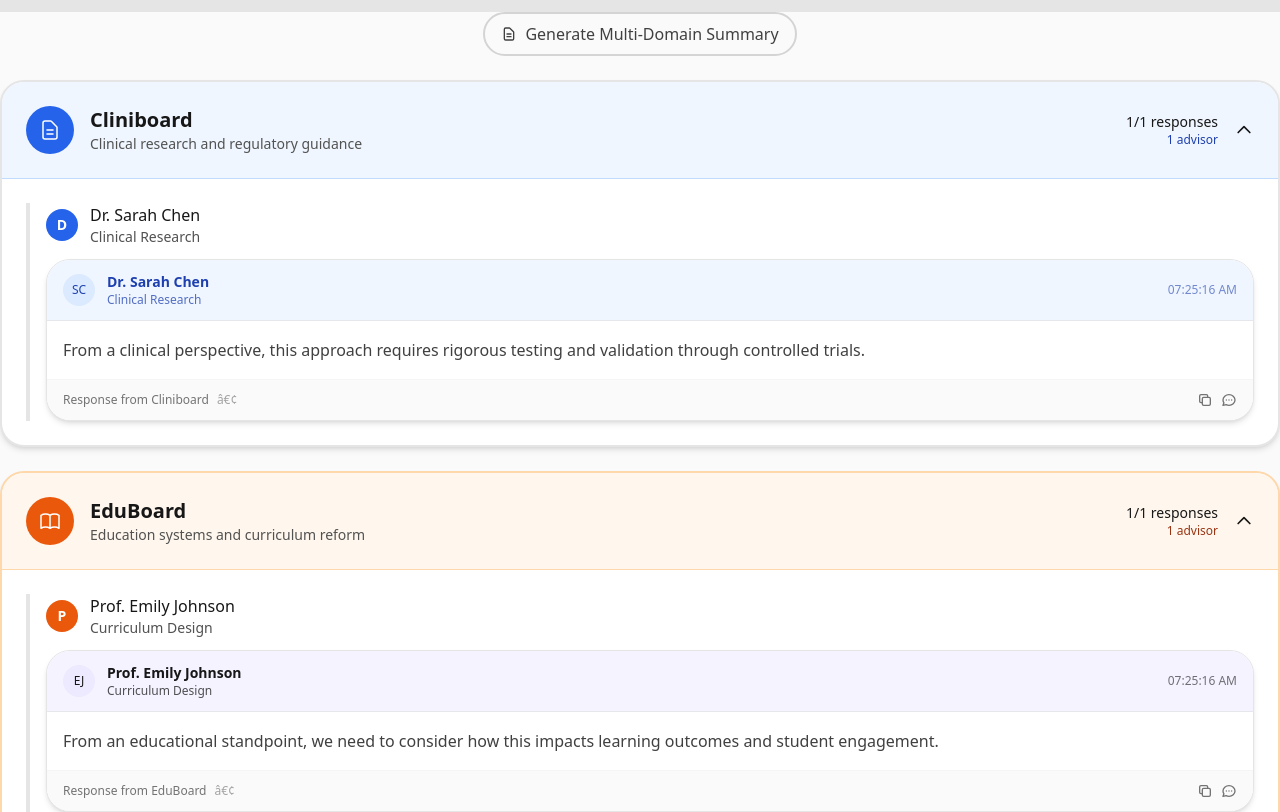
it: MultiDomainResponsePanel › hides summary when hide button is clicked
// Show summary first
What coordinates should you click on to do the following:
click the button "Generate Multi-Domain Summary"
I would click on:
 (640, 34)
Its box is [483,12,797,56].
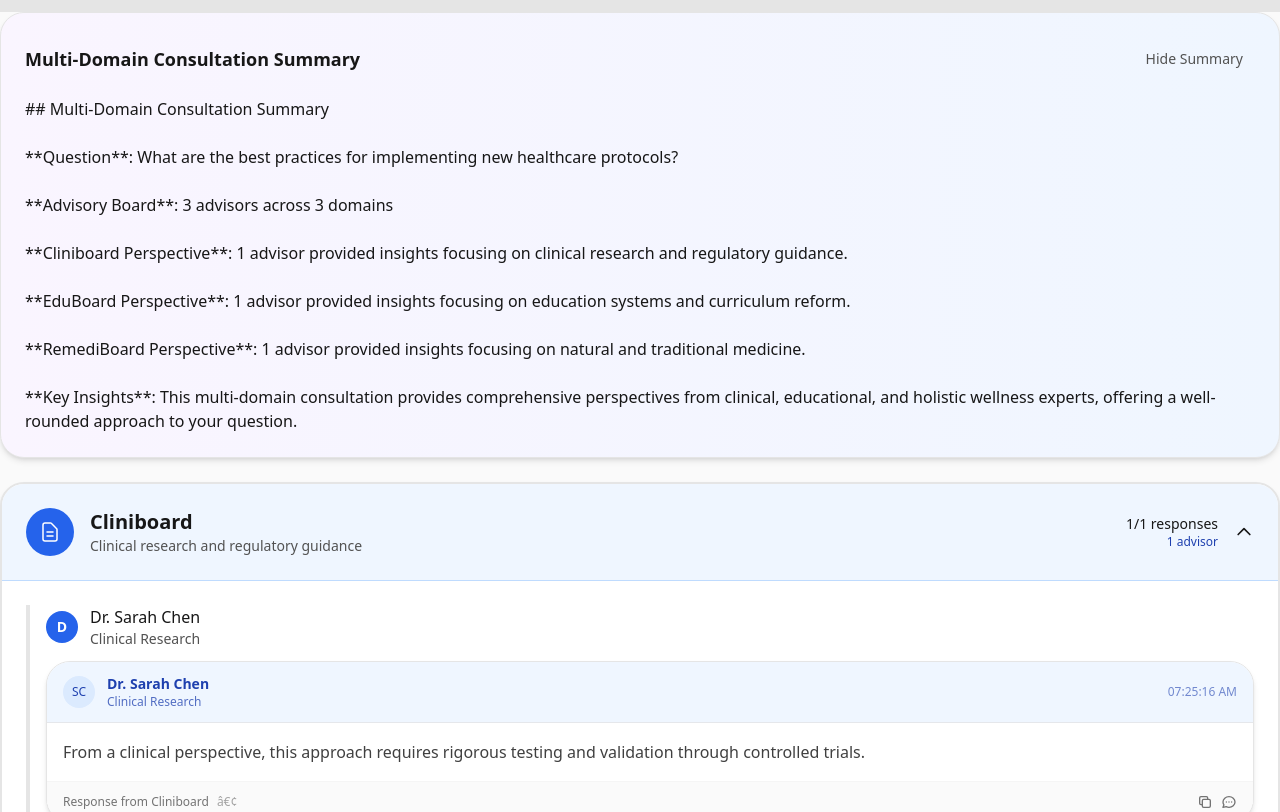
// Then hide it
What coordinates should you click on to do the following:
click the button "Hide Summary"
I would click on:
 (1194, 59)
Its box is [1134,37,1255,81].
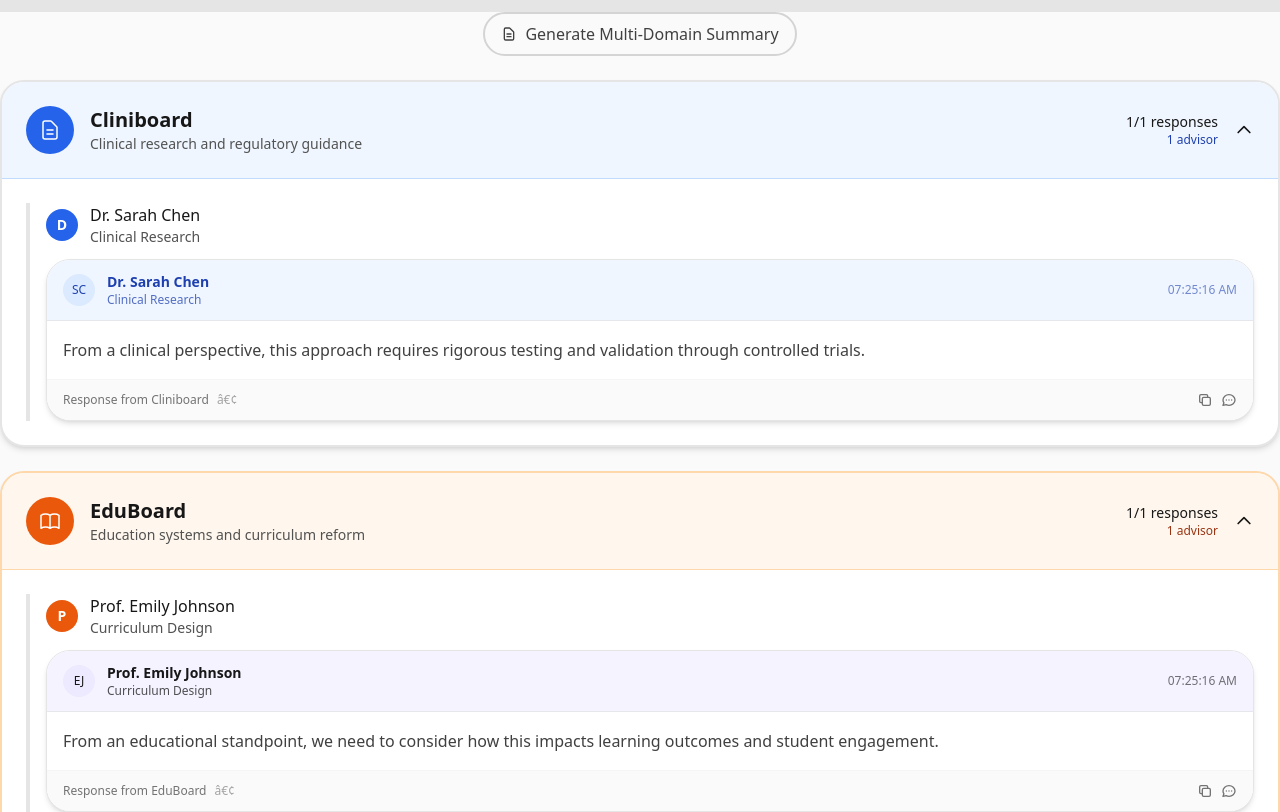
Expected: the heading "Multi-Domain Consultation Summary" is gone
Expected: the button "Generate Multi-Domain Summary" is shown, [483,12,797,56]
